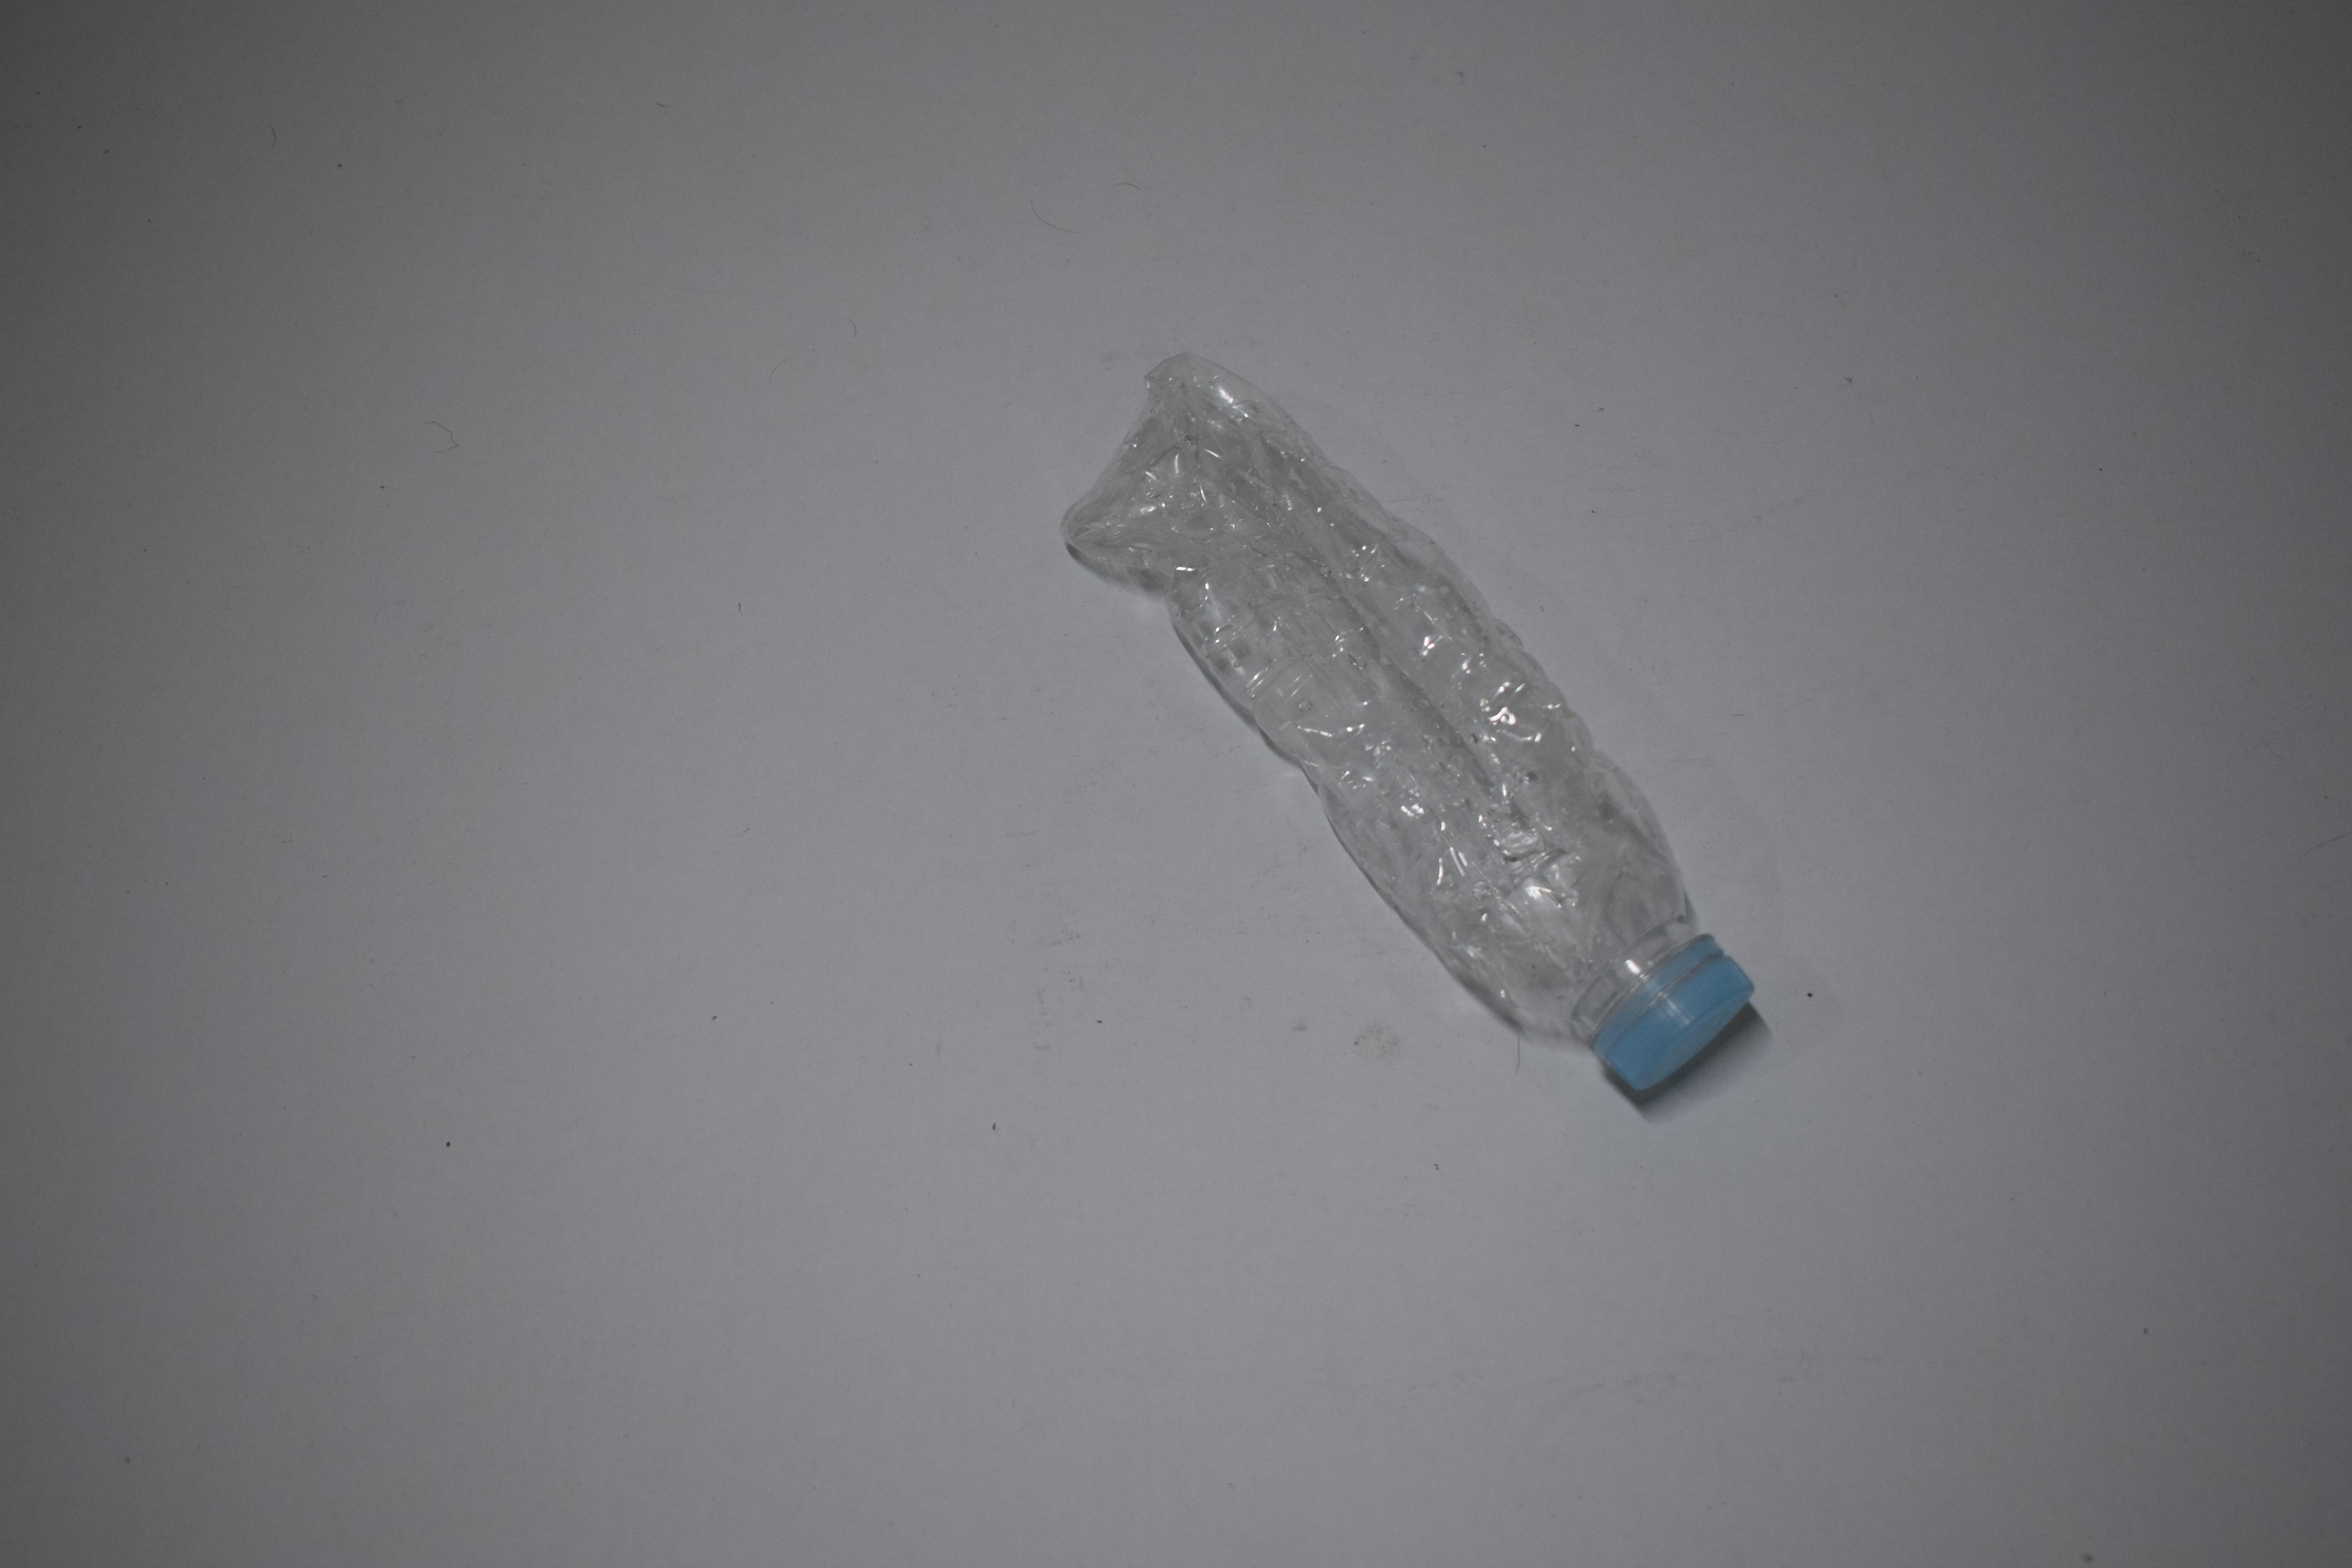bottle: (0, 338, 585, 1106)
